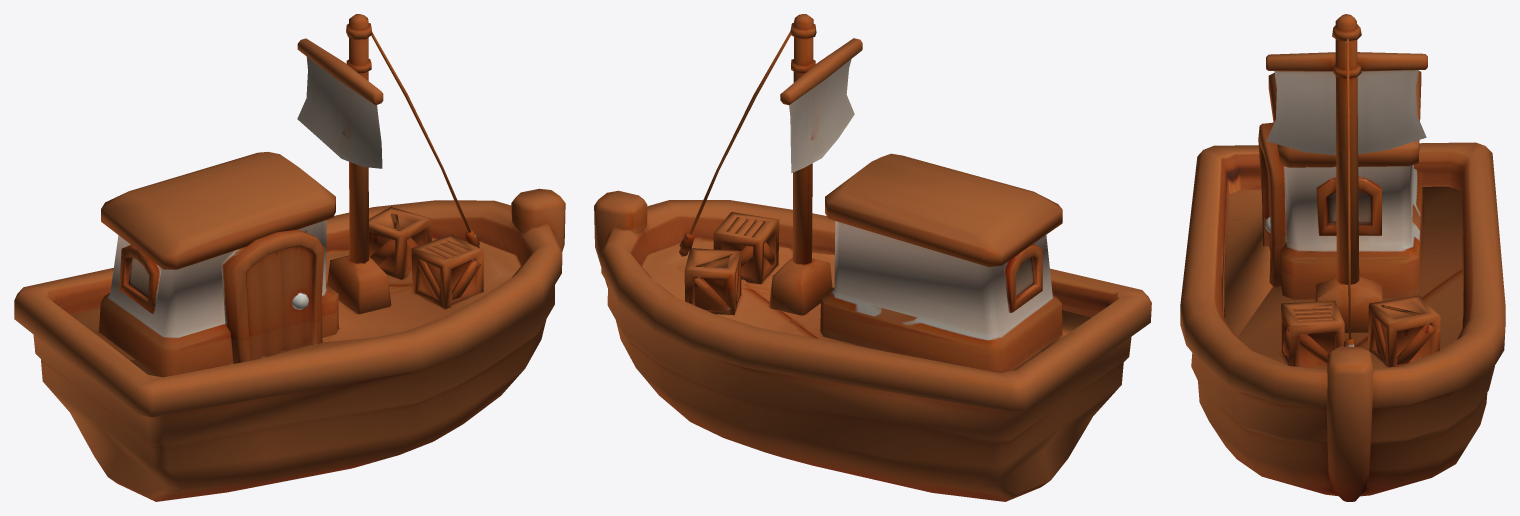
File: boat.glb
The picture shows the model from 3 angles, left to right: view 1: azimuth 30°, elevation 25°; view 2: azimuth 150°, elevation 25°; view 3: azimuth 270°, elevation 25°; orthographic projection. The views are drawn at different scales.
Parts seen in each view (by area): view 1: tripo_node_77ba4277-4412-402b-908d-04d73c8ab358; view 2: tripo_node_77ba4277-4412-402b-908d-04d73c8ab358; view 3: tripo_node_77ba4277-4412-402b-908d-04d73c8ab358.
Boxes of the visible parts, x1,y1,x2,y2 form: tripo_node_77ba4277-4412-402b-908d-04d73c8ab358: [14, 14, 565, 501]; tripo_node_77ba4277-4412-402b-908d-04d73c8ab358: [594, 14, 1151, 501]; tripo_node_77ba4277-4412-402b-908d-04d73c8ab358: [1180, 14, 1505, 501].
Size of the model in its own units: 1 by 0.8346 by 0.5363.
1 material, 1 textured.
